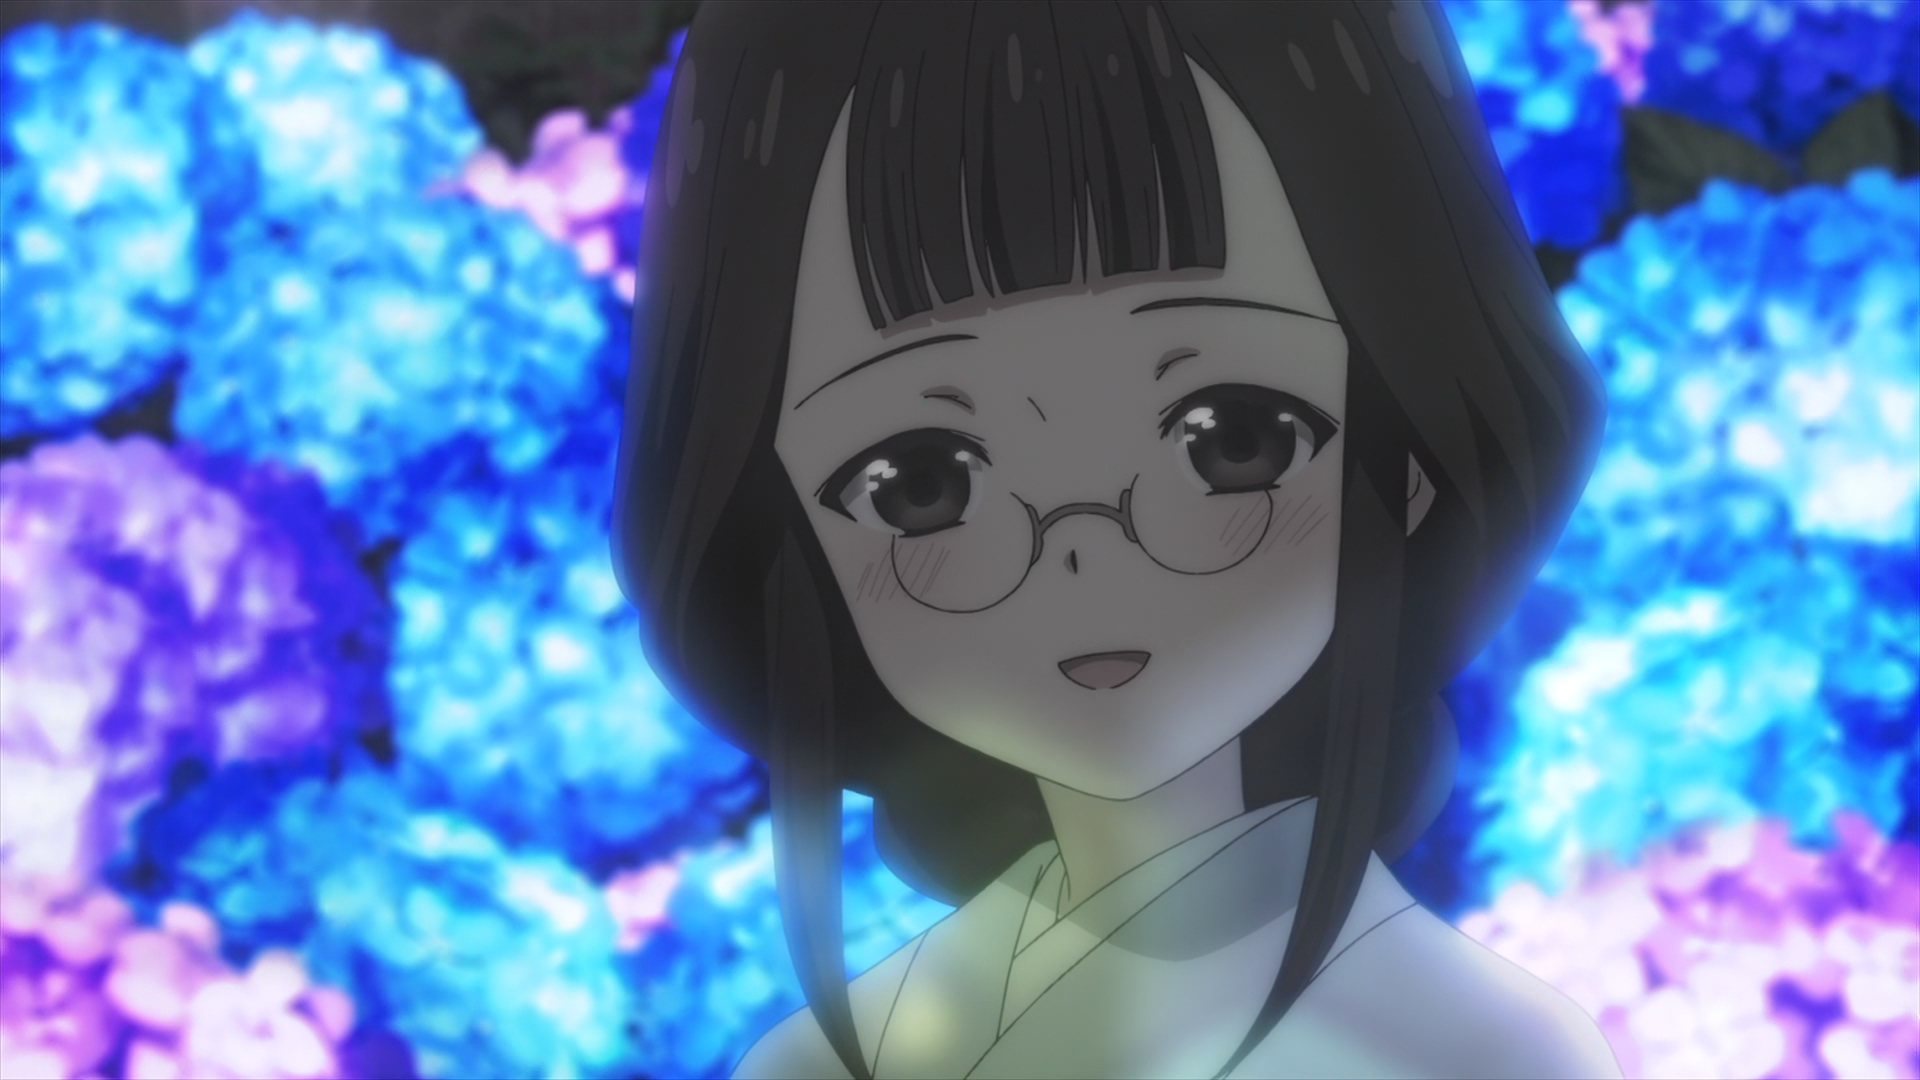其他: (605, 1, 1622, 1080)
